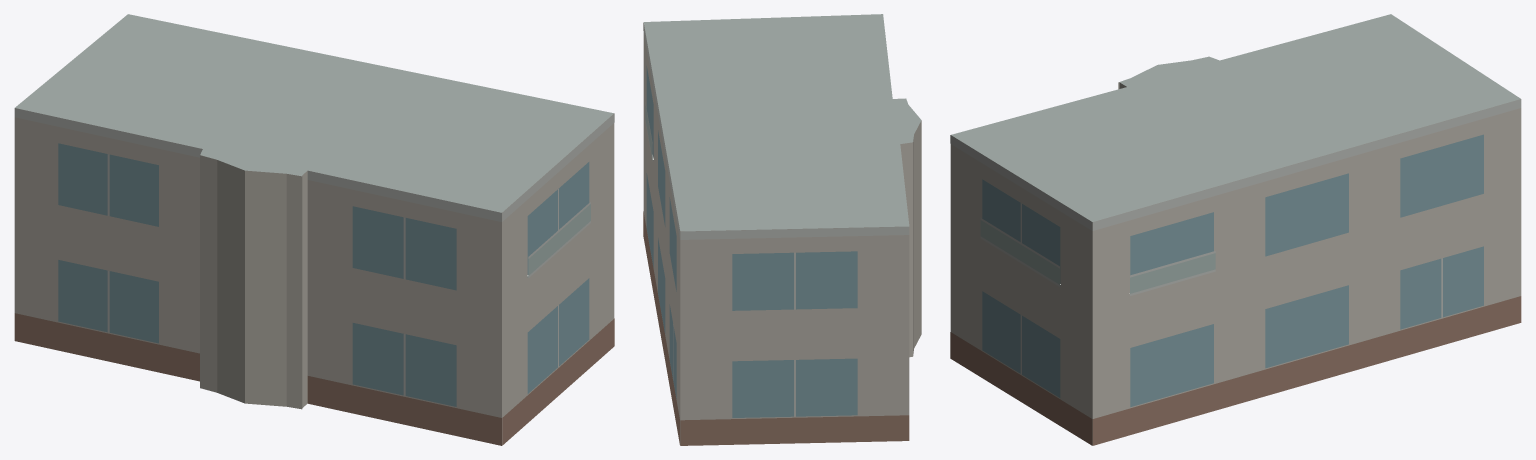
Rendered from survey-upis-32619286.glb.
3 views of the same model, side by side, from view 1: azimuth 30°, elevation 25°; view 2: azimuth 150°, elevation 25°; view 3: azimuth 270°, elevation 25° (orthographic). The views are drawn at different scales.
Parts seen in each view (by area): view 1: survey-upis-32619286.tmp; view 2: survey-upis-32619286.tmp; view 3: survey-upis-32619286.tmp.
Boxes of the visible parts, x1,y1,x2,y2 form: survey-upis-32619286.tmp: (14,14,614,445); survey-upis-32619286.tmp: (643,14,921,445); survey-upis-32619286.tmp: (950,14,1521,445).
Size of the model in its own units: 12.18 by 6.1 by 14.11.
